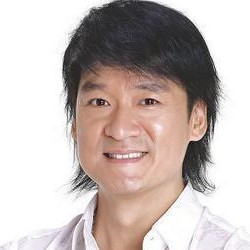unmask: (71, 64, 190, 194)
